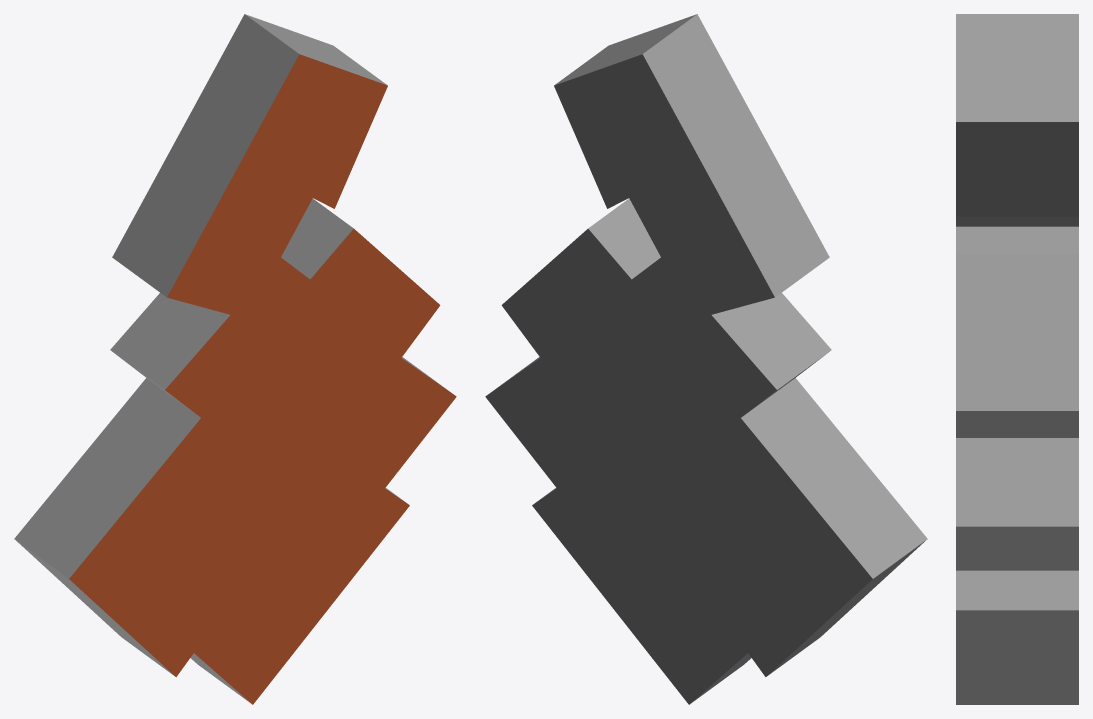
Rendered from construction_5718_assumed_A_Casa_h6m.obj.
3 renders of one model, left to right at view 1: azimuth 30°, elevation 25°; view 2: azimuth 150°, elevation 25°; view 3: azimuth 270°, elevation 25°, orthographic. The views are drawn at different scales.
Visible parts, largest first — view 1: construction_5718_assumed_A_Casa; view 2: construction_5718_assumed_A_Casa; view 3: construction_5718_assumed_A_Casa.
Part boxes in pixels (left/top/right/bottom): construction_5718_assumed_A_Casa: left=14, top=14, right=456, bottom=704; construction_5718_assumed_A_Casa: left=485, top=14, right=927, bottom=704; construction_5718_assumed_A_Casa: left=956, top=14, right=1078, bottom=704.
Bounding box in the file's own units: 24.49 × 38.6 × 6.
